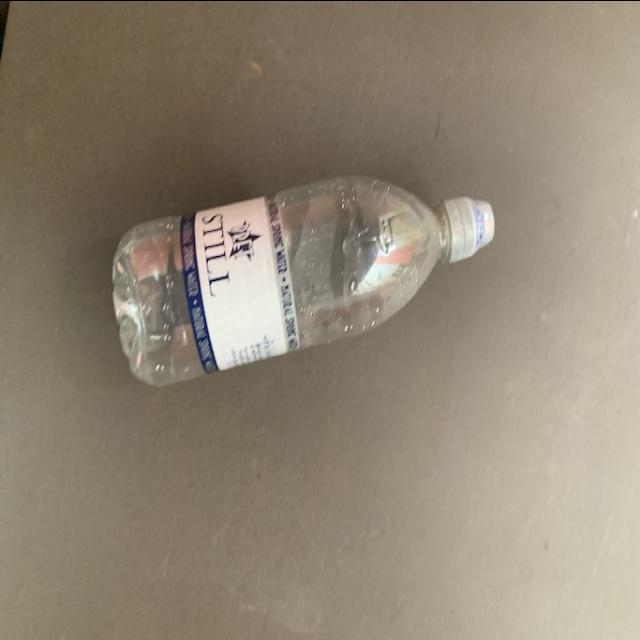PET: (109, 165, 496, 386)
